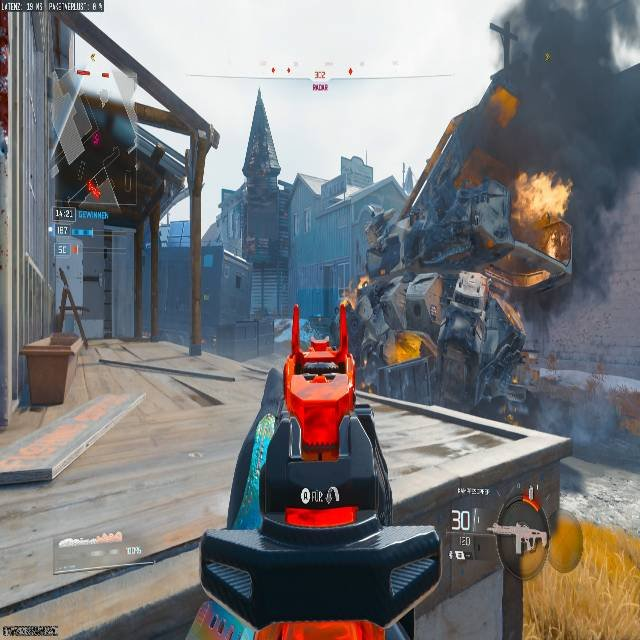player: (339, 168, 570, 426)
